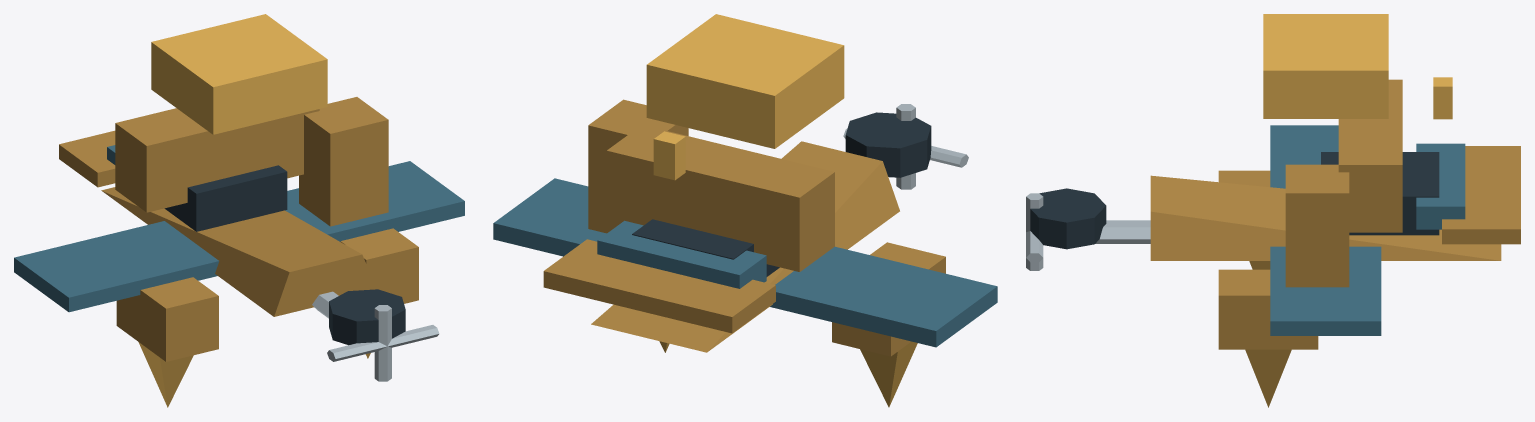
The model's file is bomber.obj.
3 renders of one model, left to right at view 1: azimuth 30°, elevation 25°; view 2: azimuth 150°, elevation 25°; view 3: azimuth 270°, elevation 25°, orthographic. The views are drawn at different scales.
Visible parts, largest first — view 1: air; view 2: air; view 3: air.
Boxes of the visible parts, box(x1,y1,x2,y2) form: air: box(14, 14, 464, 407); air: box(493, 14, 997, 407); air: box(1026, 14, 1520, 407).
Bounding box in the file's own units: 2.18 × 1.64 × 2.33.
